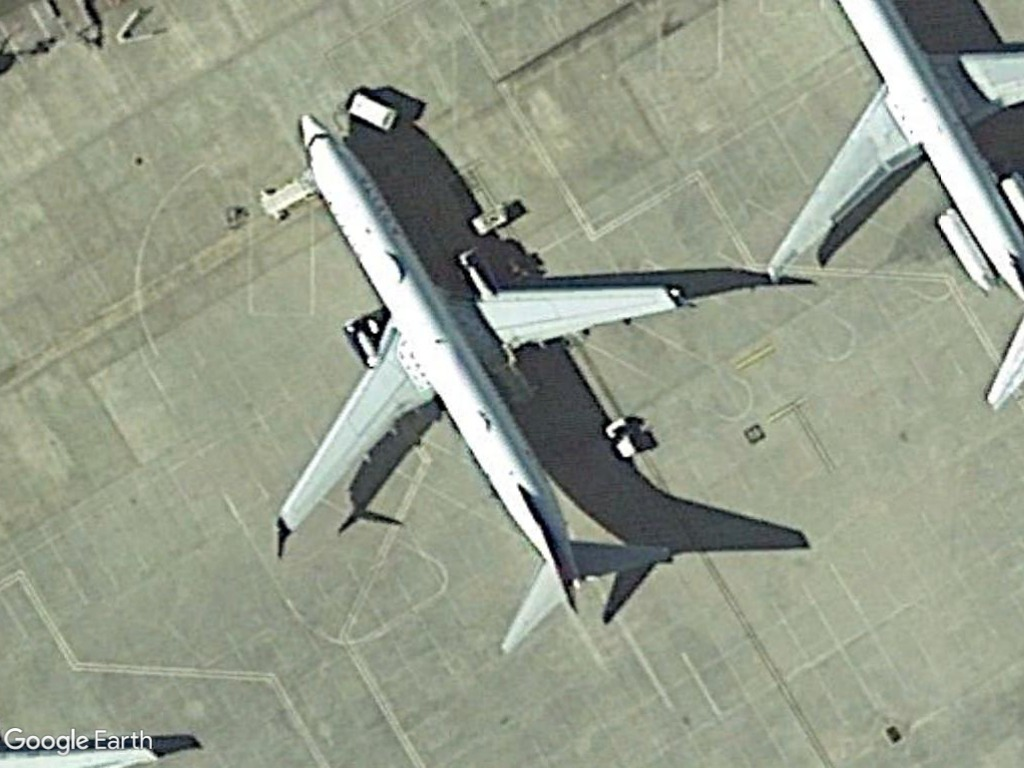airliner: (241, 115, 697, 657)
